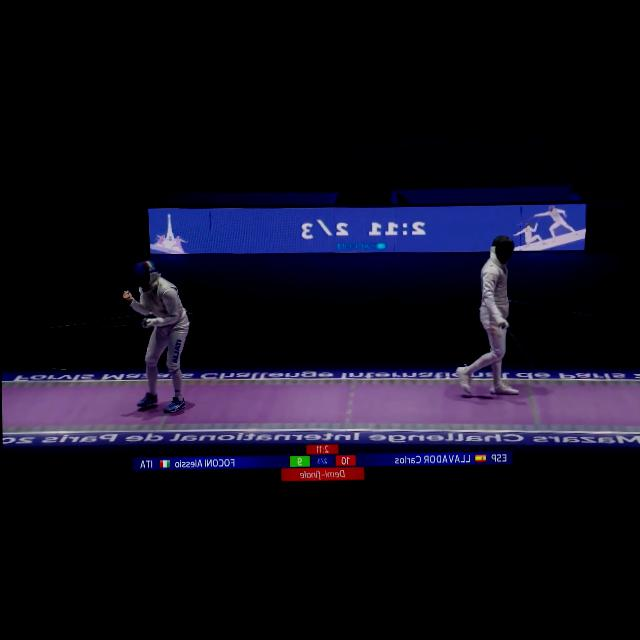blade: (496, 319, 550, 394), (88, 316, 154, 334)
